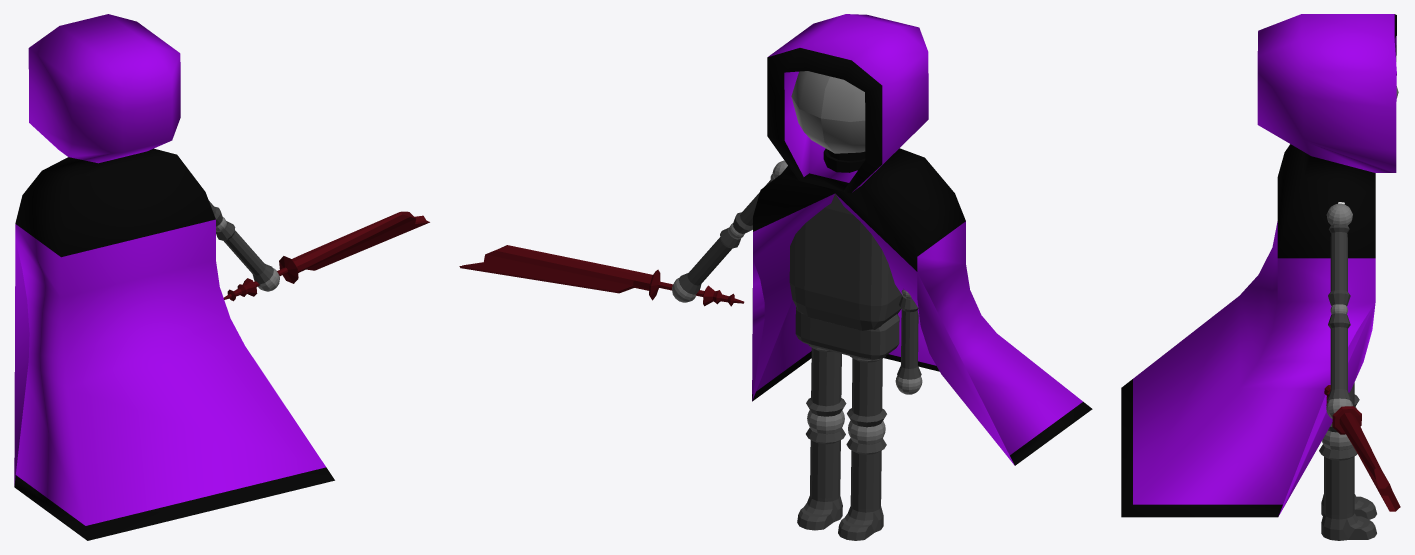
File: CharLowPolyClothes.fbx
3 views of the same model, side by side, from view 1: azimuth 30°, elevation 25°; view 2: azimuth 150°, elevation 25°; view 3: azimuth 270°, elevation 25° (orthographic). The views are drawn at different scales.
Visible parts, largest first — view 1: Cube, Cylinder, Cylinder.004; view 2: Cube, Cube.009, Cylinder, Cube.007, Cylinder.006, Cylinder.010, Cube.008, Cylinder.005, Cylinder.009, Cylinder.002, Cylinder.004, Cube.006; view 3: Cube, Cylinder.010, Cylinder, Cylinder.004, Cylinder.003, Sphere.021, Cylinder.006, Sphere.015.
Part boxes in pixels (left/top/right/bottom): Cube: left=14, top=14, right=334, bottom=540; Cylinder: left=223, top=211, right=429, bottom=301; Cylinder.004: left=216, top=221, right=273, bottom=284; Cube: left=752, top=14, right=1092, bottom=465; Cube.009: left=789, top=194, right=902, bottom=330; Cylinder: left=459, top=245, right=744, bottom=306; Cube.007: left=791, top=71, right=865, bottom=153; Cylinder.006: left=838, top=438, right=886, bottom=540; Cylinder.010: left=797, top=427, right=845, bottom=530; Cube.008: left=795, top=307, right=899, bottom=360; Cylinder.005: left=847, top=356, right=886, bottom=427; Cylinder.009: left=806, top=345, right=846, bottom=416; Cylinder.002: left=897, top=295, right=921, bottom=379; Cylinder.004: left=679, top=227, right=741, bottom=294; Cube.006: left=823, top=148, right=865, bottom=172; Cube: left=1121, top=14, right=1396, bottom=517; Cylinder.010: left=1319, top=444, right=1376, bottom=540; Cylinder: left=1324, top=385, right=1400, bottom=511; Cylinder.004: left=1327, top=313, right=1351, bottom=401; Cylinder.003: left=1328, top=224, right=1350, bottom=305; Sphere.021: left=1326, top=203, right=1352, bottom=225; Cylinder.006: left=1321, top=494, right=1376, bottom=519; Sphere.015: left=1322, top=430, right=1353, bottom=450.
Bounding box in the file's own units: 975 × 917 × 470.
